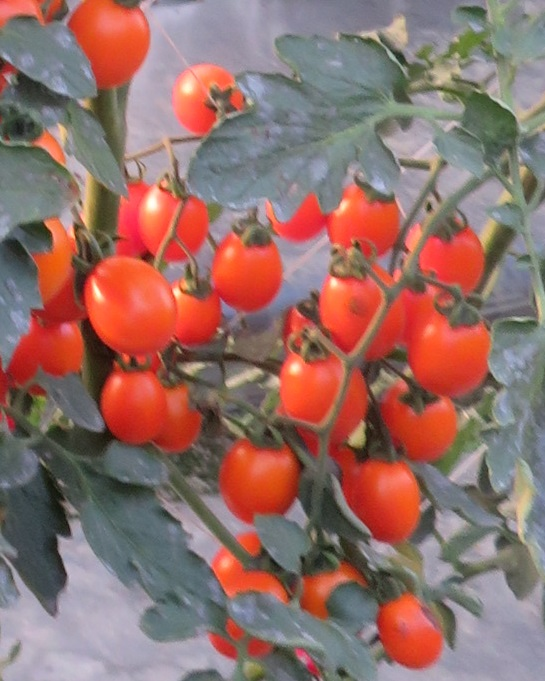orange: (79, 259, 181, 361), (278, 340, 373, 445), (324, 256, 401, 361), (214, 436, 294, 525), (73, 5, 154, 90), (413, 310, 492, 394), (371, 588, 452, 667), (162, 57, 247, 132), (136, 181, 209, 265), (215, 227, 285, 312), (386, 372, 454, 454), (327, 188, 409, 255), (358, 454, 418, 543), (102, 362, 167, 443), (402, 221, 485, 282), (176, 276, 223, 341), (166, 379, 204, 454)
